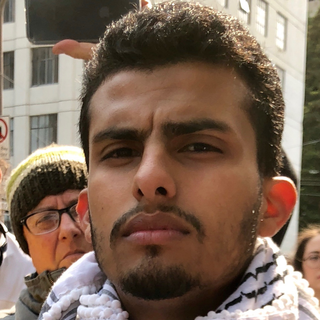eye: (178, 138, 229, 162), (100, 140, 141, 165)
